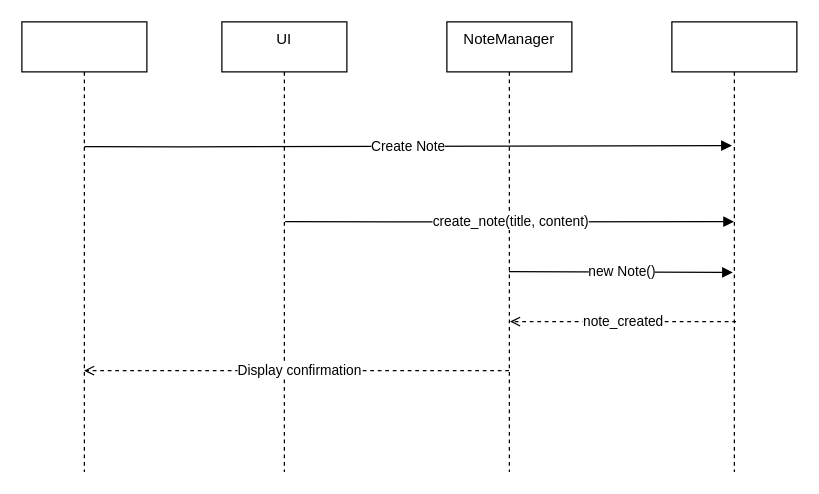
This 819x494 diagram has some shape labels left out. Here are the shapes that lost their labels. From the top down, the box of each, then its label:
(21, 21, 147, 472): User
(671, 21, 797, 472): Note
